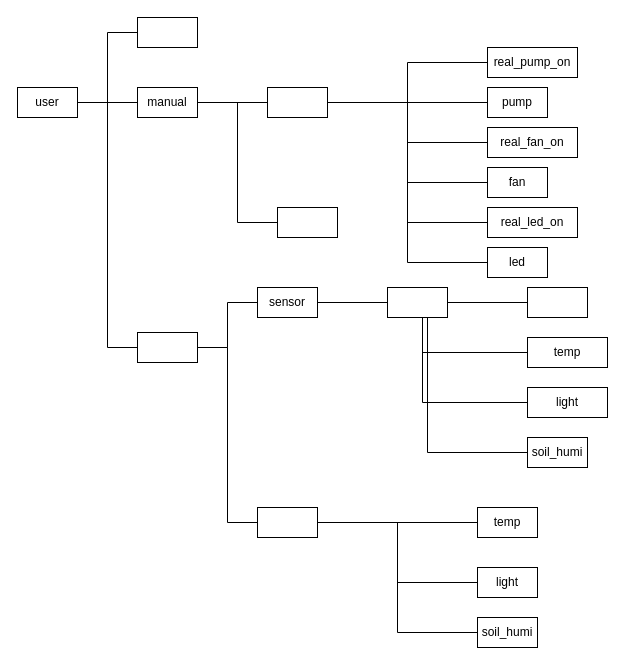
Some shapes in this 625 by 665 pixel diagram are drawn without their labels. The shapes that lost their labels are listed below. From the top down, each one's centre as x and y in pixels, then its label:
At pixel 167 32: "mode".
At pixel 297 102: "device".
At pixel 307 222: "exception".
At pixel 417 302: "그날 날짜".
At pixel 557 302: "humi".
At pixel 167 347: "auto".
At pixel 287 522: "userdata".
